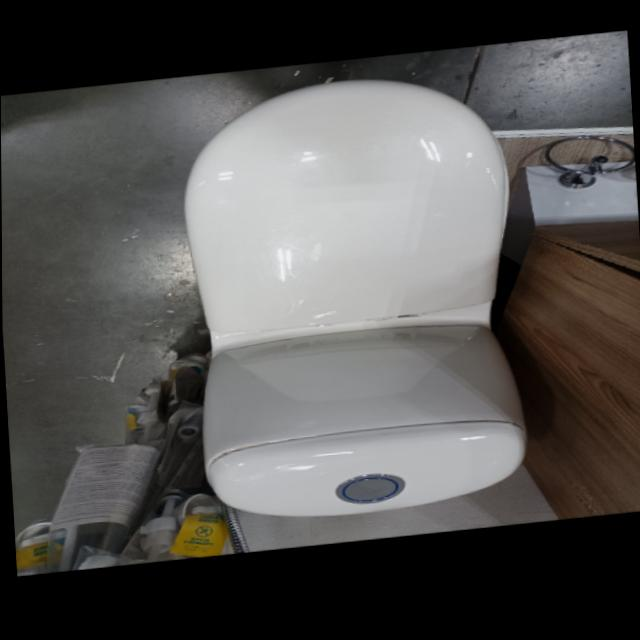toilet: (176, 69, 531, 535)
